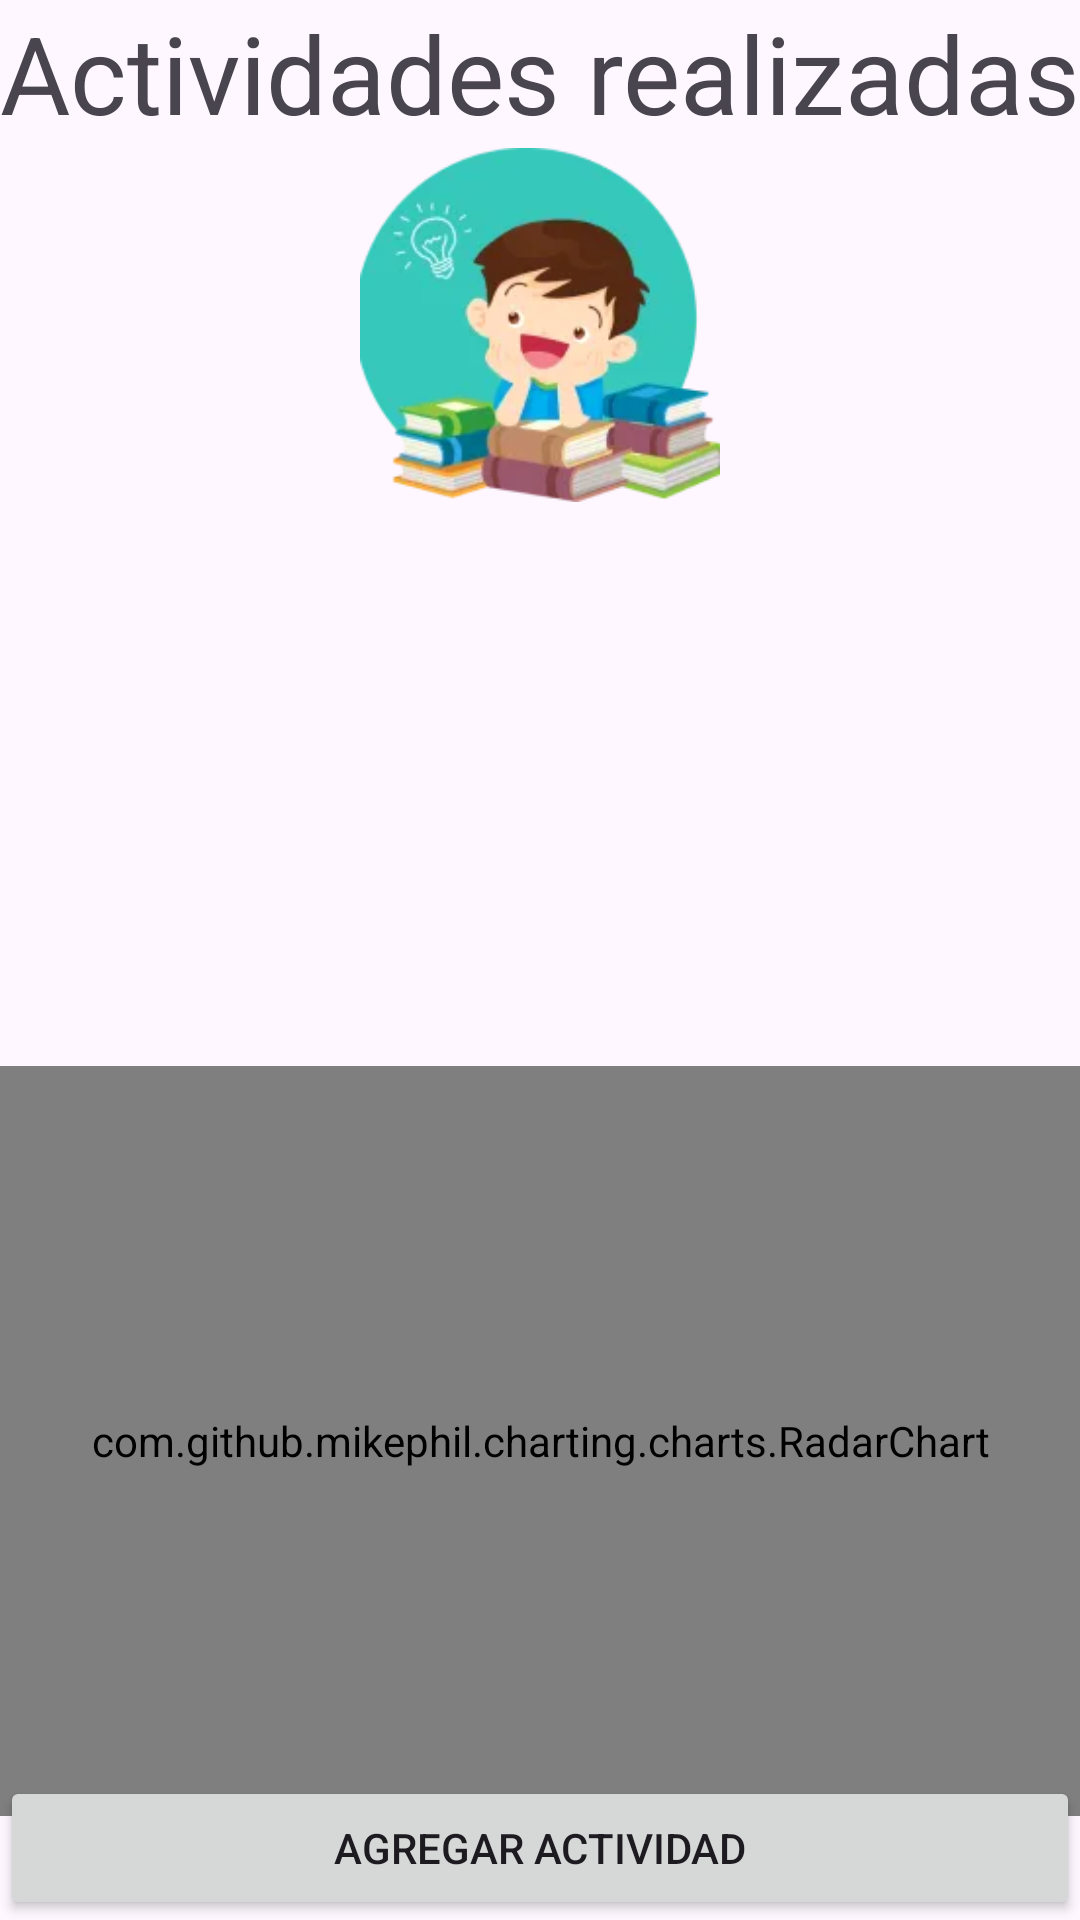

Named icons in this screenshot (1080 × 1920) and their bounding boxes, (x1, y1, x2, y2):
boy: (360, 148, 720, 502)
